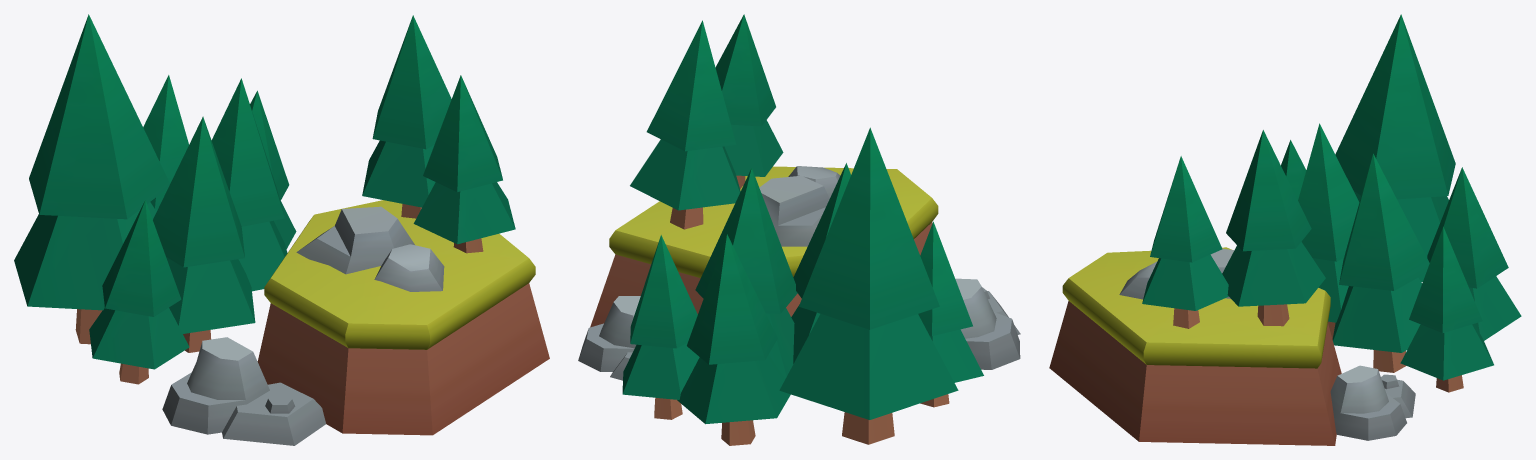
File: kay-colinas-arvores-c.gltf
3 renders of one model, left to right at view 1: azimuth 30°, elevation 25°; view 2: azimuth 150°, elevation 25°; view 3: azimuth 270°, elevation 25°, orthographic. The views are drawn at different scales.
Parts seen in each view (by area): view 1: hills_C_trees; view 2: hills_C_trees; view 3: hills_C_trees.
Boxes of the visible parts, bbox=[...] form: hills_C_trees: bbox=[14, 14, 549, 445]; hills_C_trees: bbox=[578, 14, 1020, 445]; hills_C_trees: bbox=[1049, 14, 1521, 445].
Bounding box in the file's own units: 8.48 × 6.48 × 9.5.
Materials: 1 (1 with a texture image).
